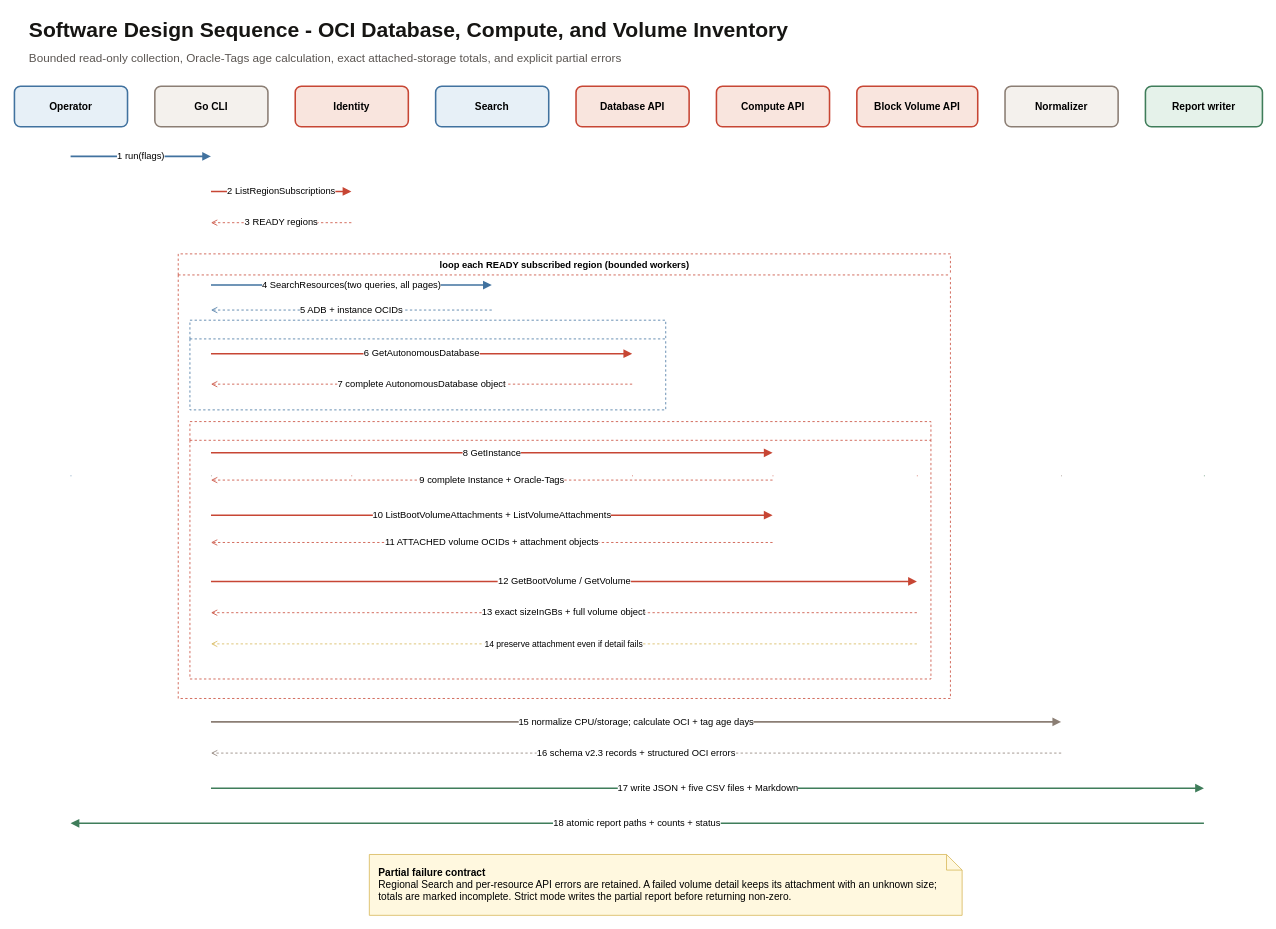
Image size: 1276x929. Some labels were removed from this diagram. Here are the shapes that lost their labels. From the top down, the centre of each, then its label:
At (427,364): "loop Autonomous Database OCIDs".
At (560,550): "loop Compute instance OCIDs".
